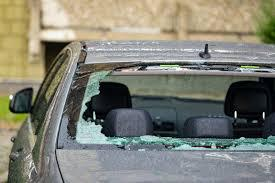Rear-windscreen-Damage: (41, 53, 274, 153)
